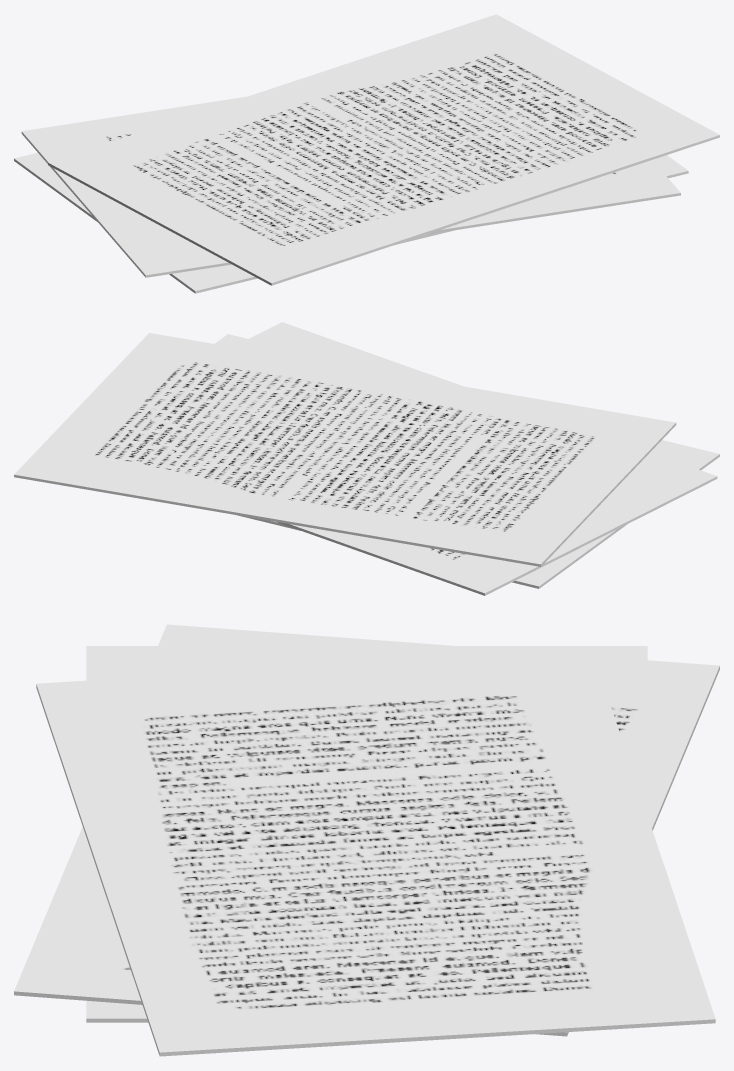
The model's file is Papers.fbx.
3 renders of one model, top to bottom at view 1: azimuth 30°, elevation 25°; view 2: azimuth 150°, elevation 25°; view 3: azimuth 270°, elevation 25°, orthographic. The views are drawn at different scales.
Visible parts, largest first — view 1: pCube56; view 2: pCube56; view 3: pCube56.
Boxes of the visible parts, x1,y1,x2,y2 form: pCube56: (14, 14, 719, 293); pCube56: (14, 322, 719, 595); pCube56: (14, 624, 719, 1056).
Size of the model in its own units: 1.82 by 0.0232 by 1.26.
